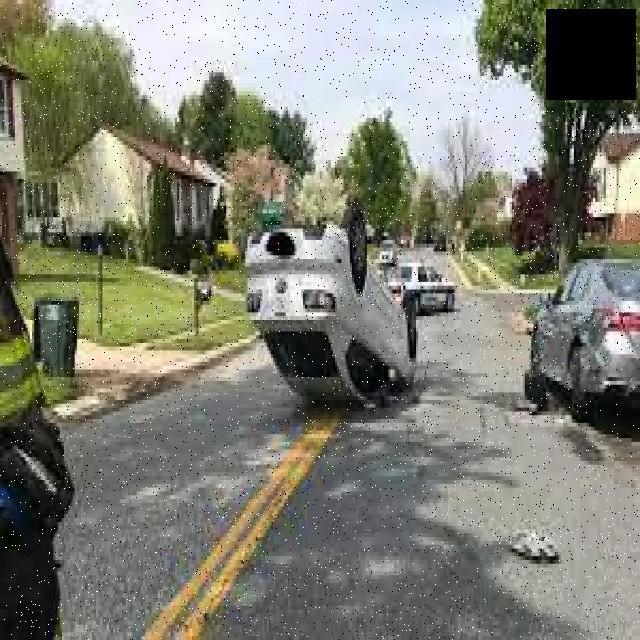multiple_accident: (226, 143, 640, 456)
